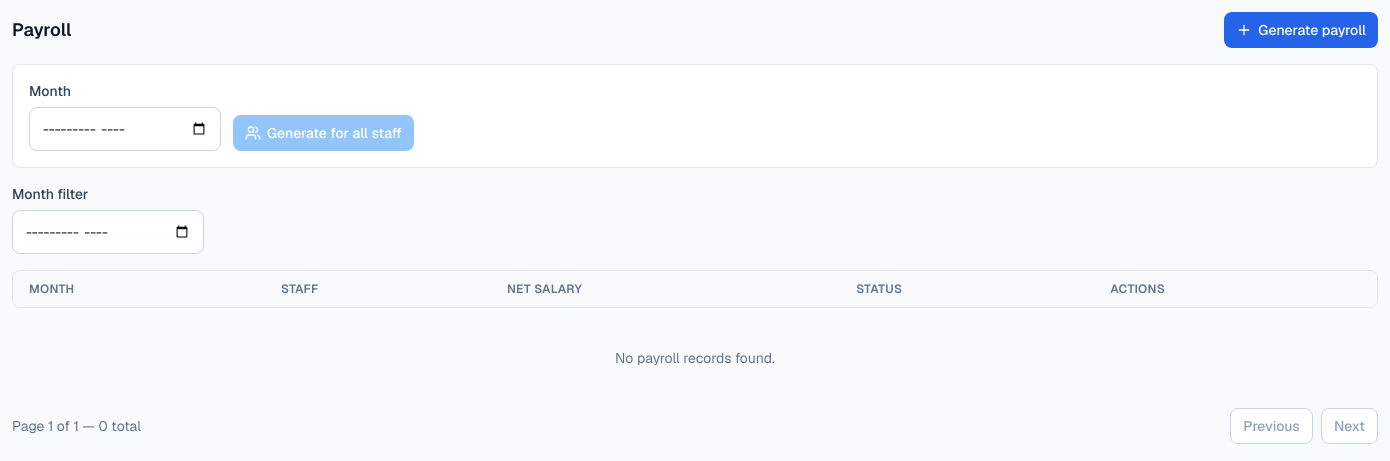
PayrollPage › generates payroll for every active staff member via "Generate for all staff"
Type "2026-03" into the field labelled "Month" at (125, 129), box x1=29 y1=107 x2=221 y2=151
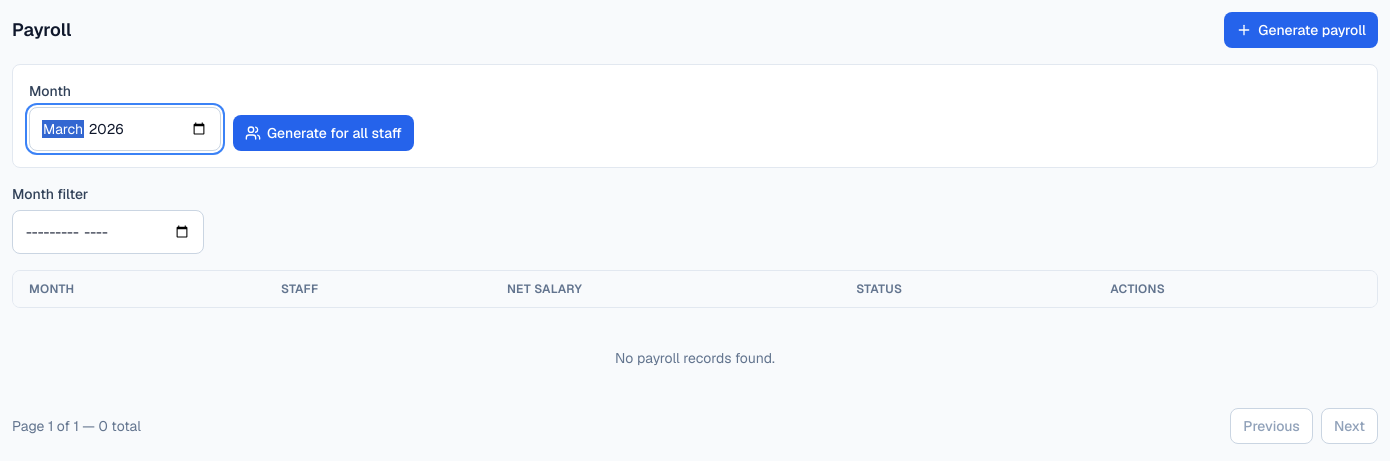
Click the button "Generate for all staff" at (324, 133), box x1=233 y1=115 x2=414 y2=151
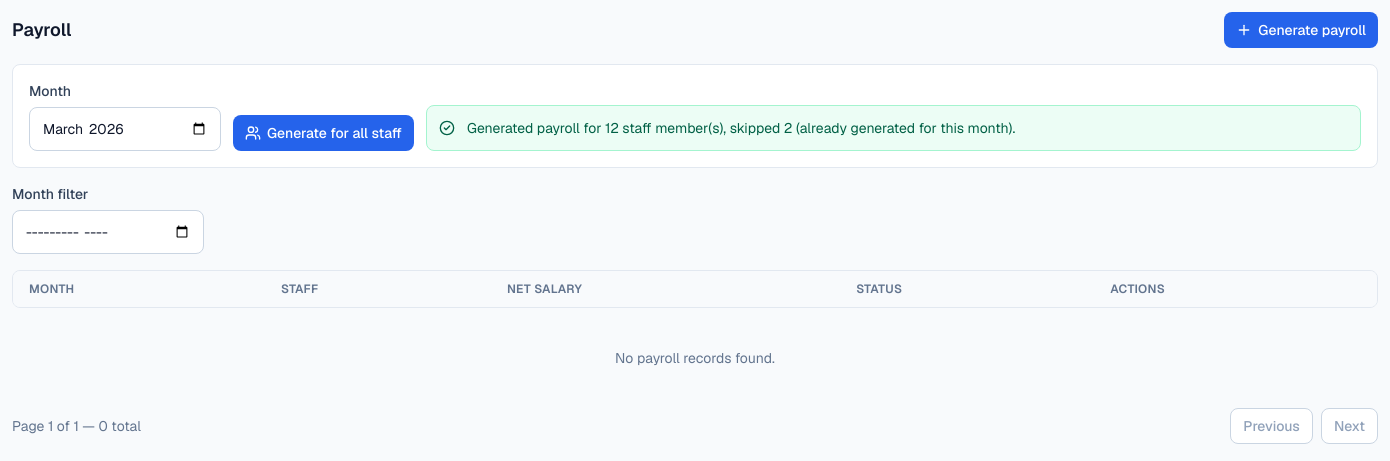
Expected: the text "Generated payroll for 12 staff member(s), skipped 2 (already generated for this month)." is shown, x1=467 y1=118 x2=1015 y2=138
